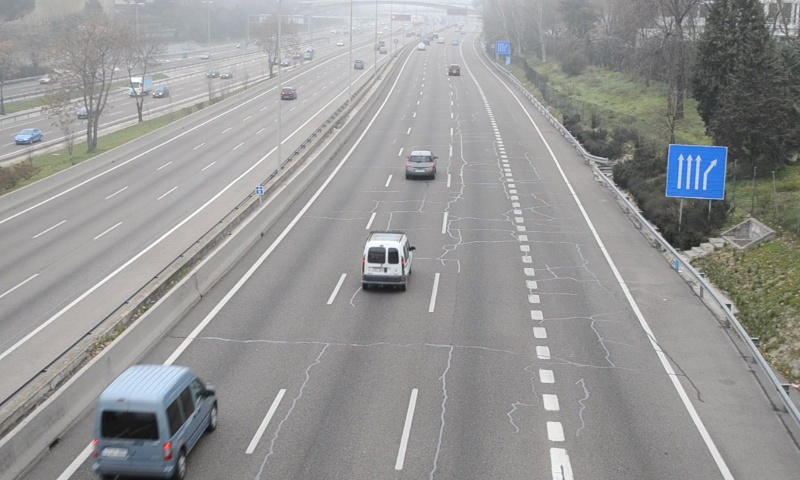car: (404, 150, 436, 178)
van: (95, 366, 218, 480), (360, 233, 410, 286)
